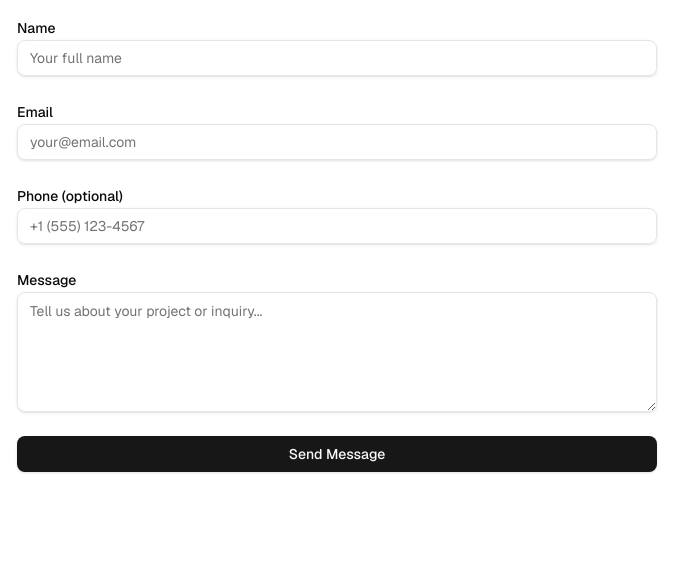
Test: ContactForm › Rate Limit Error Handling › displays rate limit error message when 429 received
The image size is (675, 572).
Note: Fill out form
Type "John Doe" into the field labelled "Name". click: (337, 58)
box: [17,40,657,76]
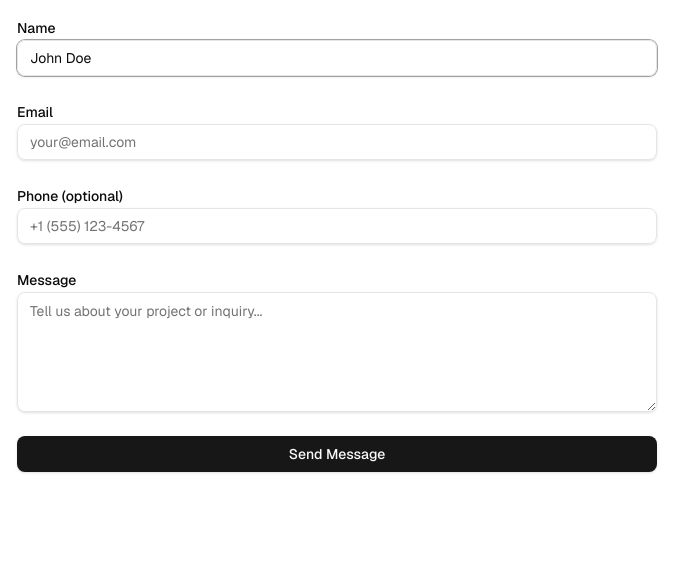
Type "john@example.com" into the field labelled "Email". click: (337, 142)
box: [17,124,657,160]
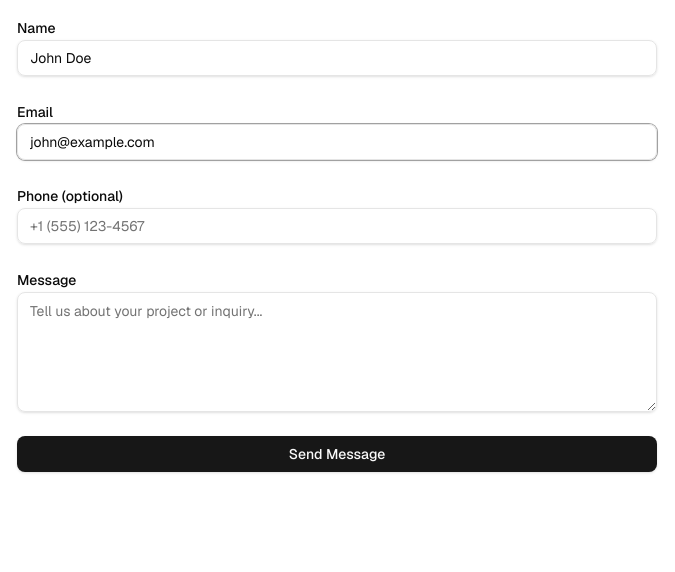
Type "Test message with enough characters" into the text box labelled "Message". click: (337, 352)
box: [17,292,657,412]
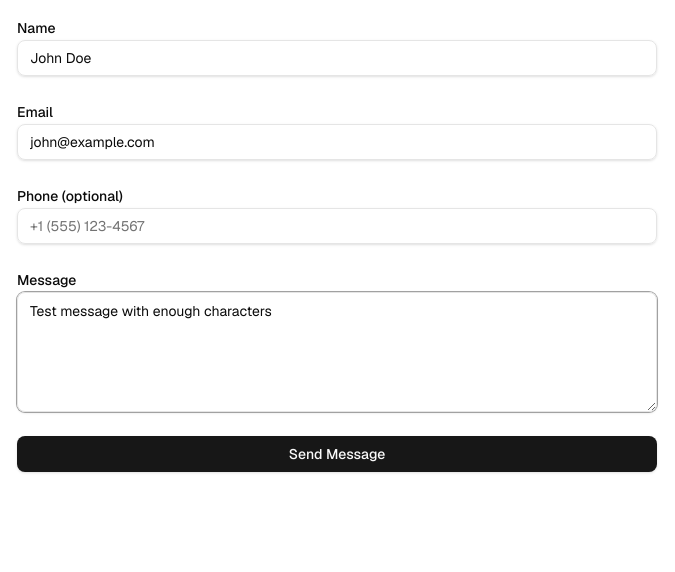
Note: Submit form
Click the button "Send Message". click: (337, 454)
box: [17,436,657,472]
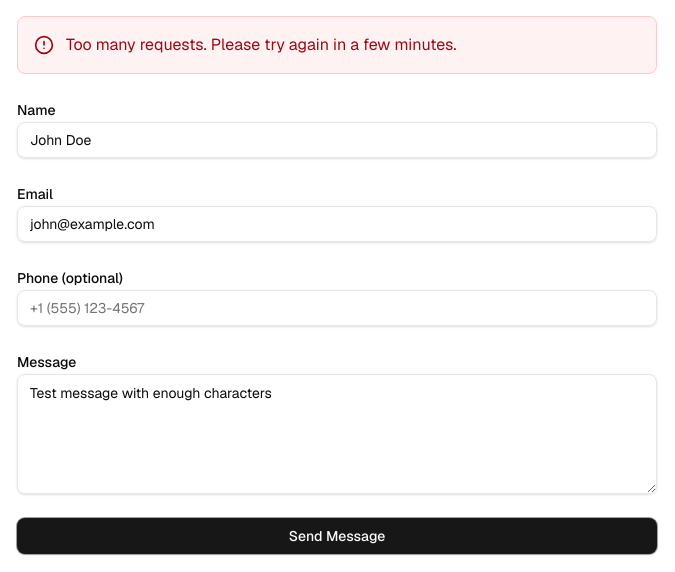
Result: the text "Too many requests. Please try again in a few minutes." is shown at [66,33,456,57]
